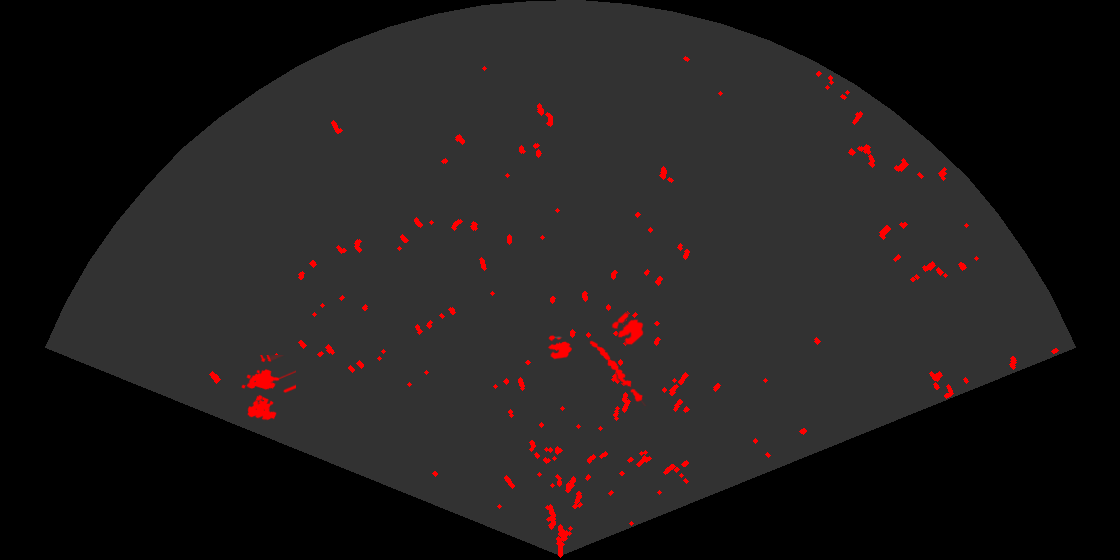ball: (610, 311, 645, 347), (546, 334, 573, 361)
cage: (240, 355, 296, 422)
chain: (588, 339, 648, 406)
